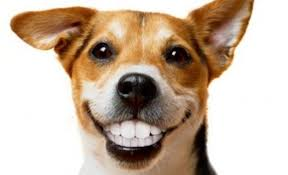dog: (14, 3, 268, 175)
